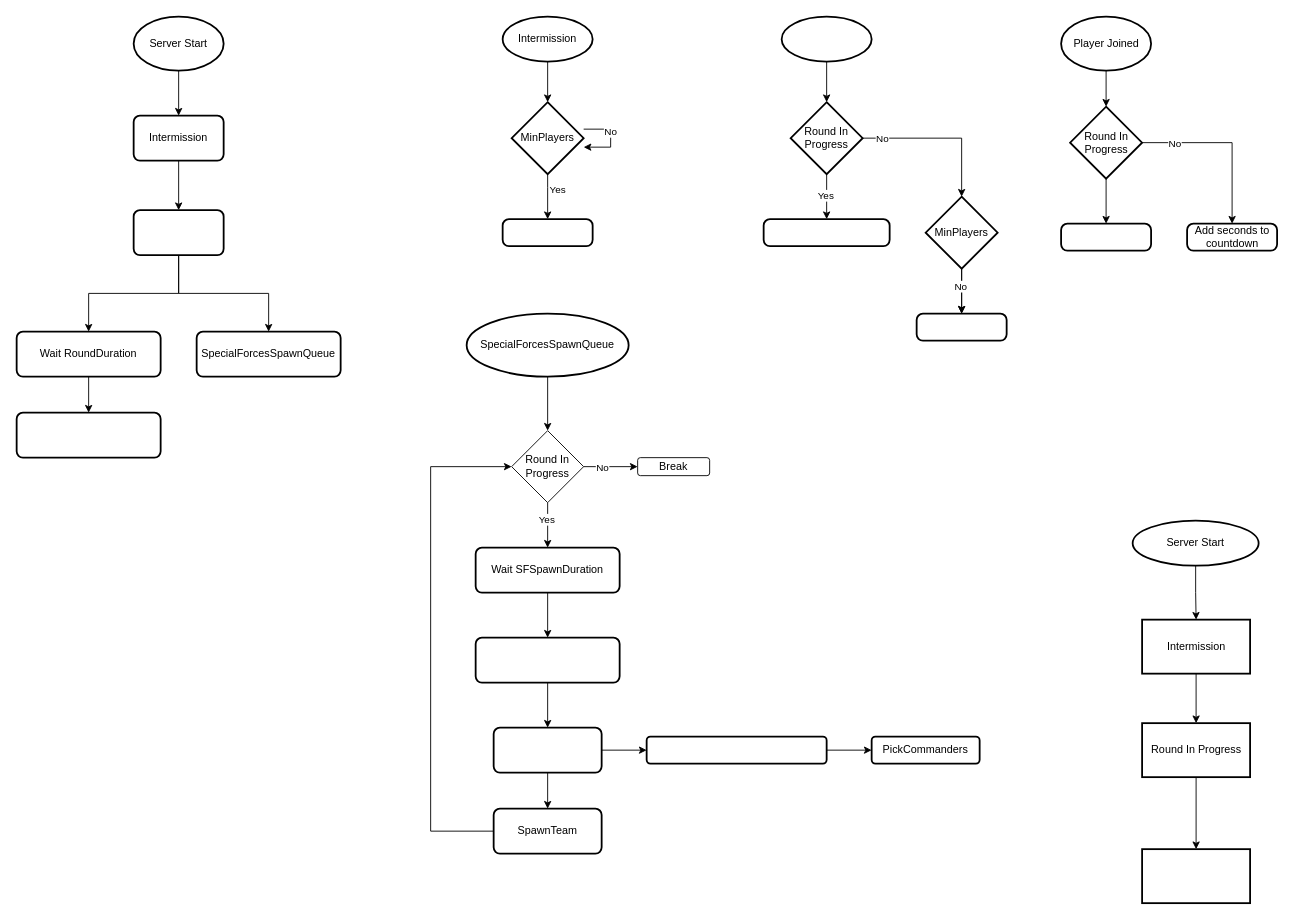
The diagram is 1293 pixels wide and 919 high, and some of its shapes have lost their labels. Here are the shapes that lost their labels. From the top down, the box of each, then its label:
(780, 15, 872, 62): Player Left
(132, 209, 224, 256): SetTeams & Spawn Players
(501, 218, 593, 247): Start Countdown
(762, 218, 890, 247): CheckGameOutcome
(1060, 222, 1152, 251): Team Spectator
(915, 312, 1007, 341): Restart Intermission
(15, 411, 161, 458): EndRound
(474, 636, 620, 683): DrawTeamToSpawn
(492, 726, 602, 773): SelectCommanders
(645, 735, 827, 764): CommandersAmountToSpawn
